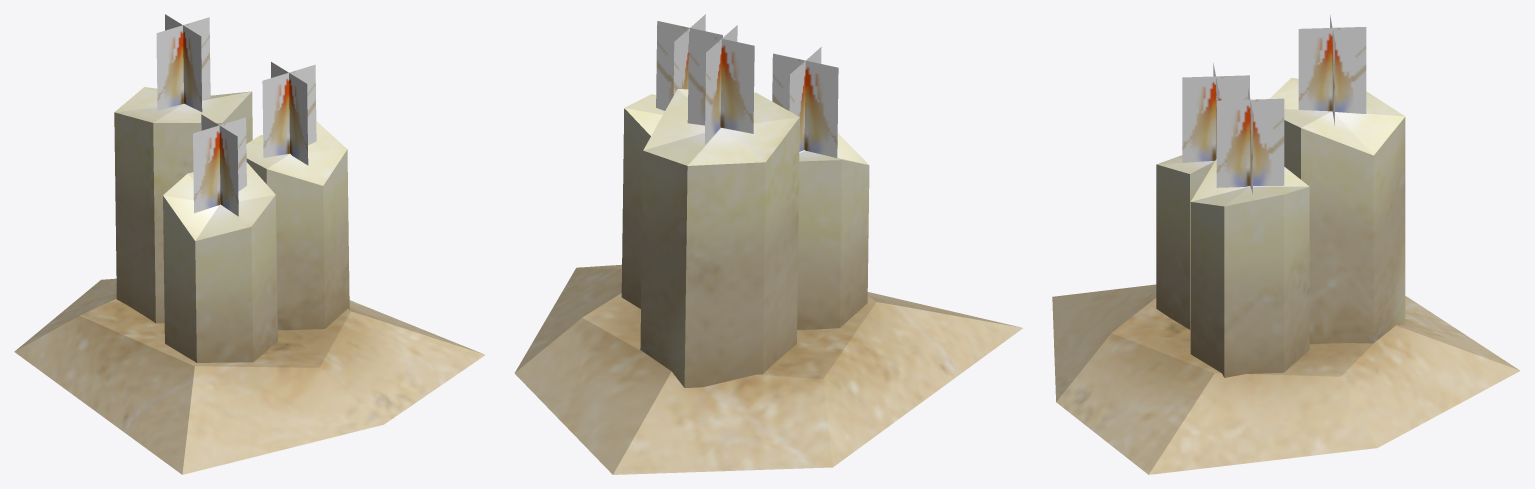
The model's file is Candles_2.fbx.
3 renders of one model, left to right at view 1: azimuth 30°, elevation 25°; view 2: azimuth 150°, elevation 25°; view 3: azimuth 270°, elevation 25°, orthographic. The views are drawn at different scales.
Visible parts, largest first — view 1: Candles_2; view 2: Candles_2; view 3: Candles_2.
Part boxes in pixels (x1,y1,x2,y2): Candles_2: (14, 14, 485, 474); Candles_2: (514, 14, 1022, 474); Candles_2: (1052, 15, 1520, 474).
Bounding box in the file's own units: 17.58 × 15.49 × 19.36.
